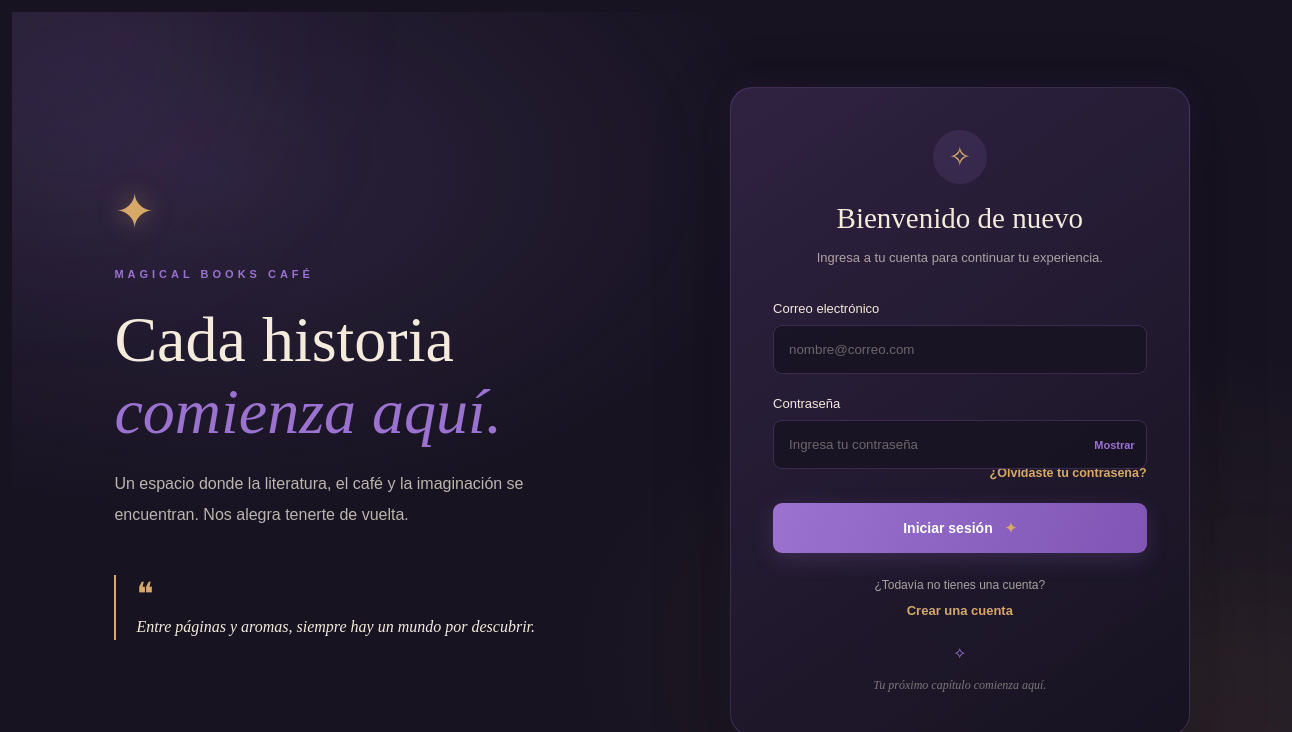
Test: Login › lleva al administrador directo al panel
This screenshot has width=1292, height=732.
Type "ana@example.com" into the field labelled "Correo electrónico".
click(960, 350); type("ana@example.com")  # box [773,325,1146,374]
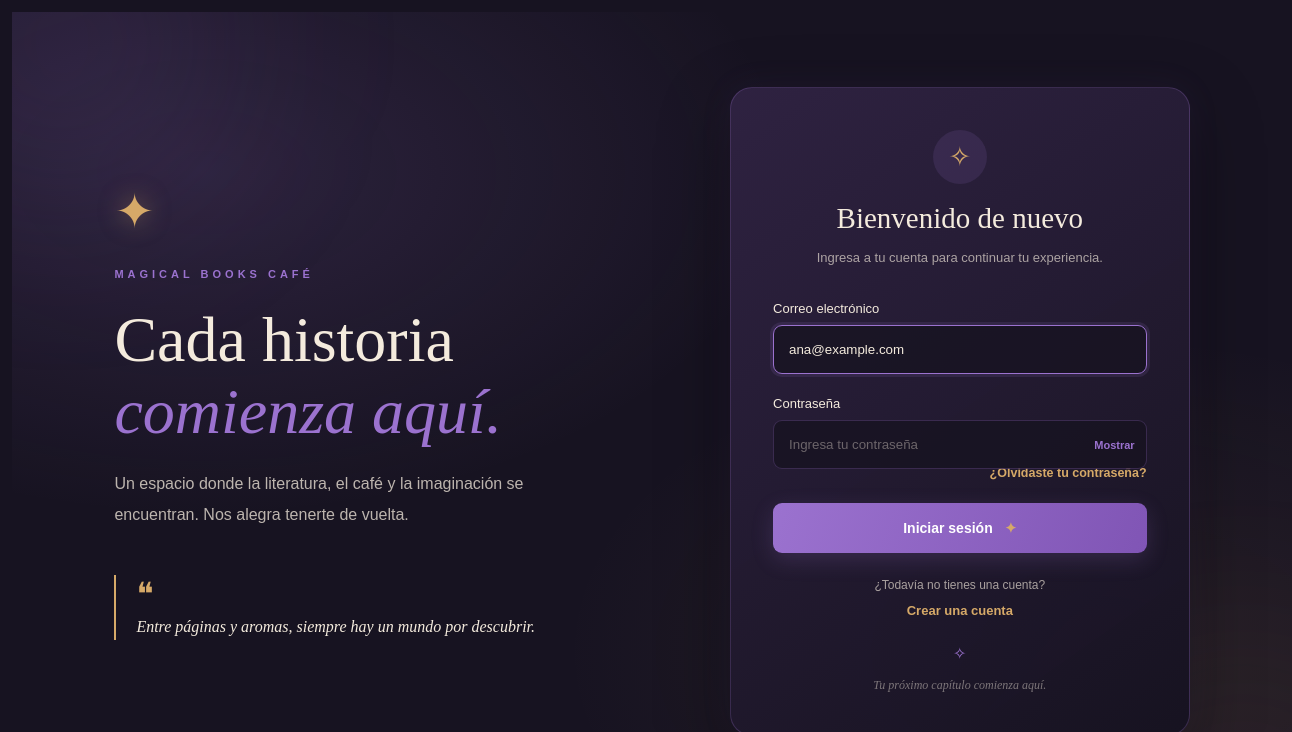
Type "secreta123" into the password field labelled "Contraseña".
click(960, 445); type("secreta123")  # box [773,420,1146,469]
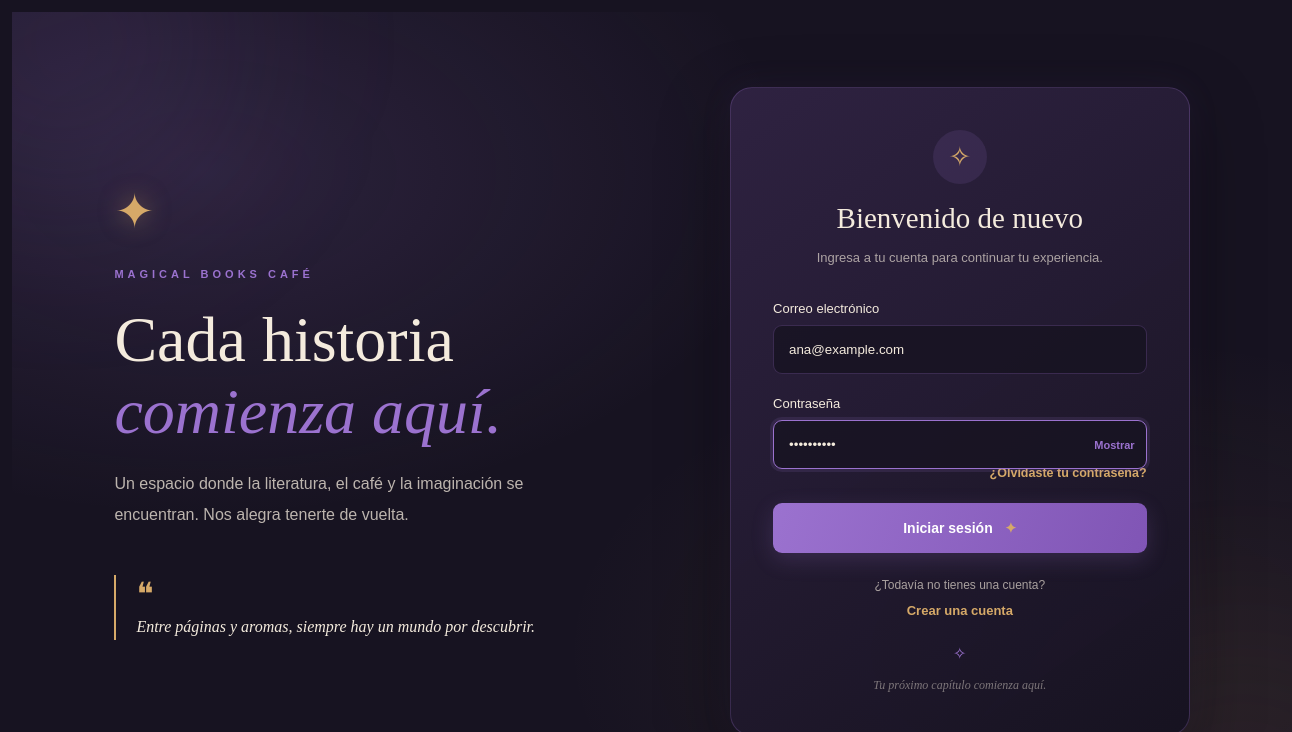
Click the button "Iniciar sesión ✦".
click(960, 528)  # box [773,503,1146,553]
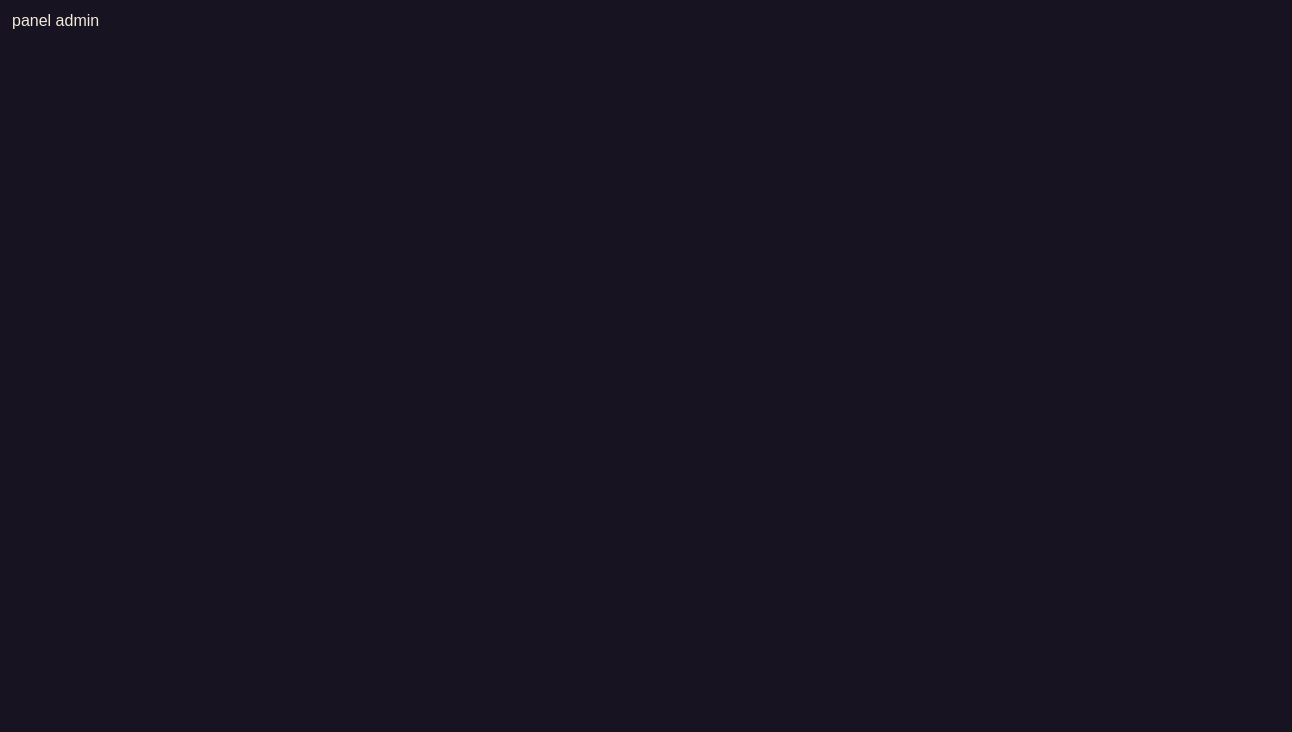
Now the text "panel admin" is shown, box [12,12,99,29]
